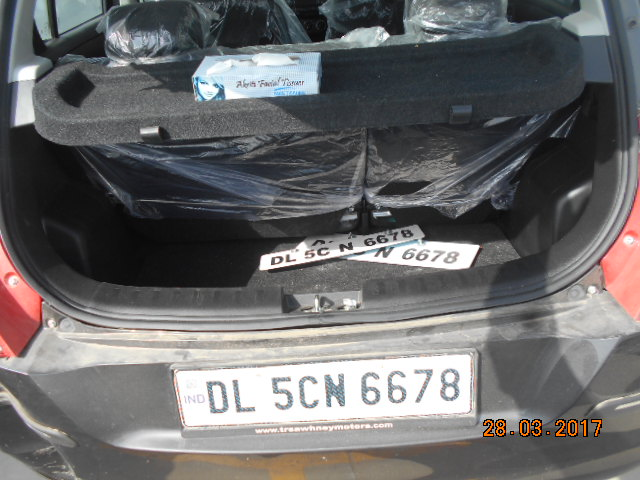Scratch_or_spot: (42, 413, 77, 470), (3, 393, 37, 436)
